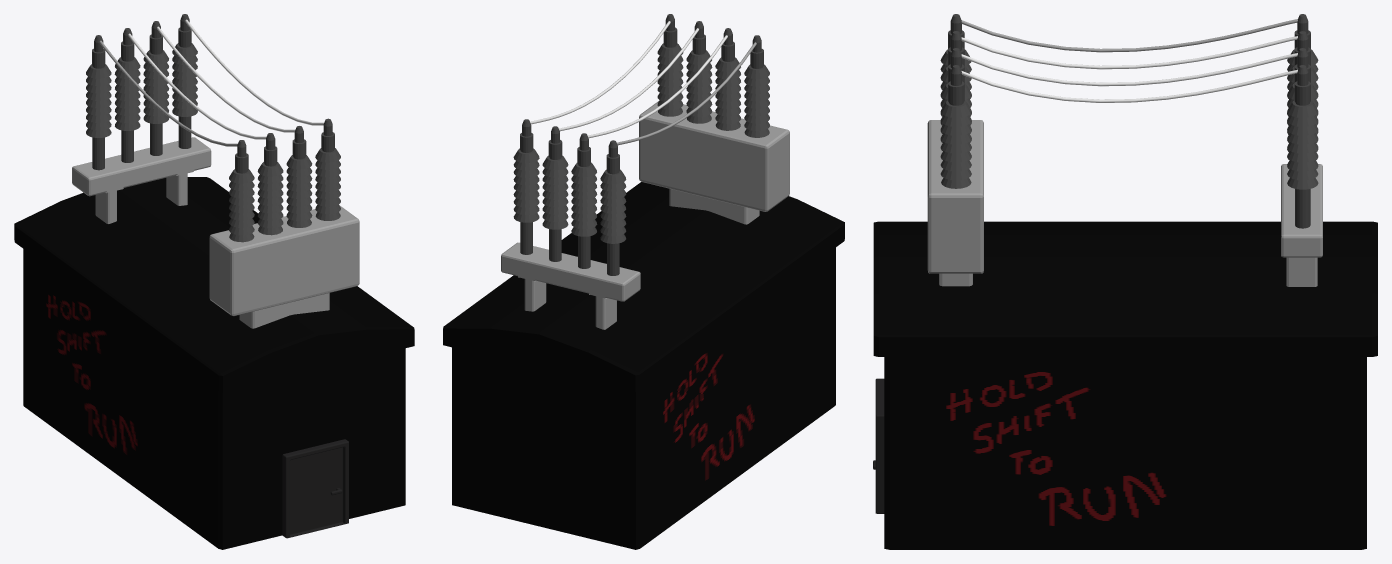
File: ElectricalBuilding.glb
3 renders of one model, left to right at view 1: azimuth 30°, elevation 25°; view 2: azimuth 150°, elevation 25°; view 3: azimuth 270°, elevation 25°, orthographic. The views are drawn at different scales.
Visible parts, largest first — view 1: Cube, Cube.001, Cube.003, Cube.002, Cylinder.006, Cylinder.005, Cylinder.001, Cylinder.007, Cylinder.003, Cylinder.002, Cylinder, Cylinder.004 (+4 smaller); view 2: Cube, Cube.001, Cube.002, Cylinder.001, Cylinder.006, Cylinder.007, Cylinder.005, Cylinder, Cylinder.002, Cylinder.004, Cylinder.003, BézierCurve.001 (+3 smaller); view 3: Cube, Cube.001, Cylinder.007, Cube.002, Cylinder.004, BézierCurve.001, BézierCurve.002, BézierCurve.003, BézierCurve, Cube.003, Cylinder.001, Cylinder.003.
Part boxes in pixels (box(x1,y1,x2,y2)): Cube: box(14, 177, 414, 549); Cube.001: box(209, 205, 359, 328); Cube.003: box(282, 439, 348, 538); Cube.002: box(72, 137, 211, 223); Cylinder.006: box(86, 35, 111, 170); Cylinder.005: box(114, 28, 140, 162); Cylinder.001: box(143, 21, 169, 155); Cylinder.007: box(172, 14, 197, 148); Cylinder.003: box(286, 126, 312, 227); Cylinder.002: box(257, 133, 283, 235); Cylinder: box(229, 140, 254, 242); Cylinder.004: box(315, 118, 340, 220); Cube: box(443, 182, 844, 549); Cube.001: box(639, 100, 789, 224); Cube.002: box(501, 242, 640, 329); Cylinder.001: box(542, 126, 568, 261); Cylinder.006: box(600, 140, 626, 275); Cylinder.007: box(513, 119, 539, 254); Cylinder.005: box(571, 133, 597, 268); Cylinder: box(744, 35, 769, 137); Cylinder.002: box(715, 28, 740, 130); Cylinder.004: box(657, 14, 683, 116); Cylinder.003: box(686, 21, 712, 123); BézierCurve.001: box(559, 28, 698, 131); Cube: box(873, 221, 1377, 549); Cube.001: box(927, 120, 983, 286); Cylinder.007: box(1287, 65, 1318, 228); Cube.002: box(1281, 164, 1322, 286); Cylinder.004: box(940, 65, 971, 188); BézierCurve.001: box(961, 53, 1297, 86); BézierCurve.002: box(961, 36, 1297, 69); BézierCurve.003: box(961, 19, 1297, 52); BézierCurve: box(961, 69, 1297, 102); Cube.003: box(873, 378, 884, 513); Cylinder.001: box(1287, 48, 1318, 169); Cylinder.003: box(940, 48, 971, 159).
Size of the model in its own units: 6.16 by 11.31 by 11.38.
4 materials, 1 textured.
